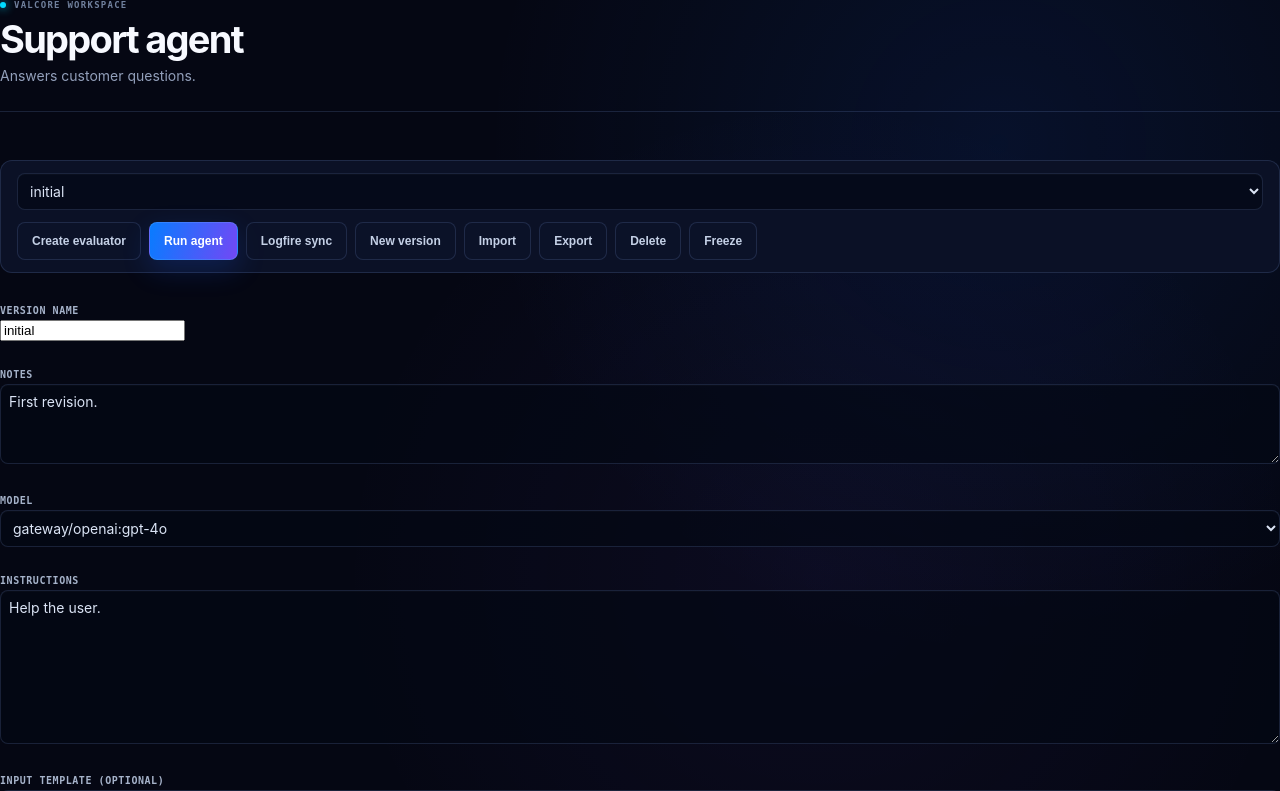
AgentDetail › shows a rejected derive run's API message instead of navigating
Expected: the heading "Support agent" is shown, [0, 20, 243, 60]
Click the button "Run agent". click: (193, 241)
box: [149, 222, 238, 260]
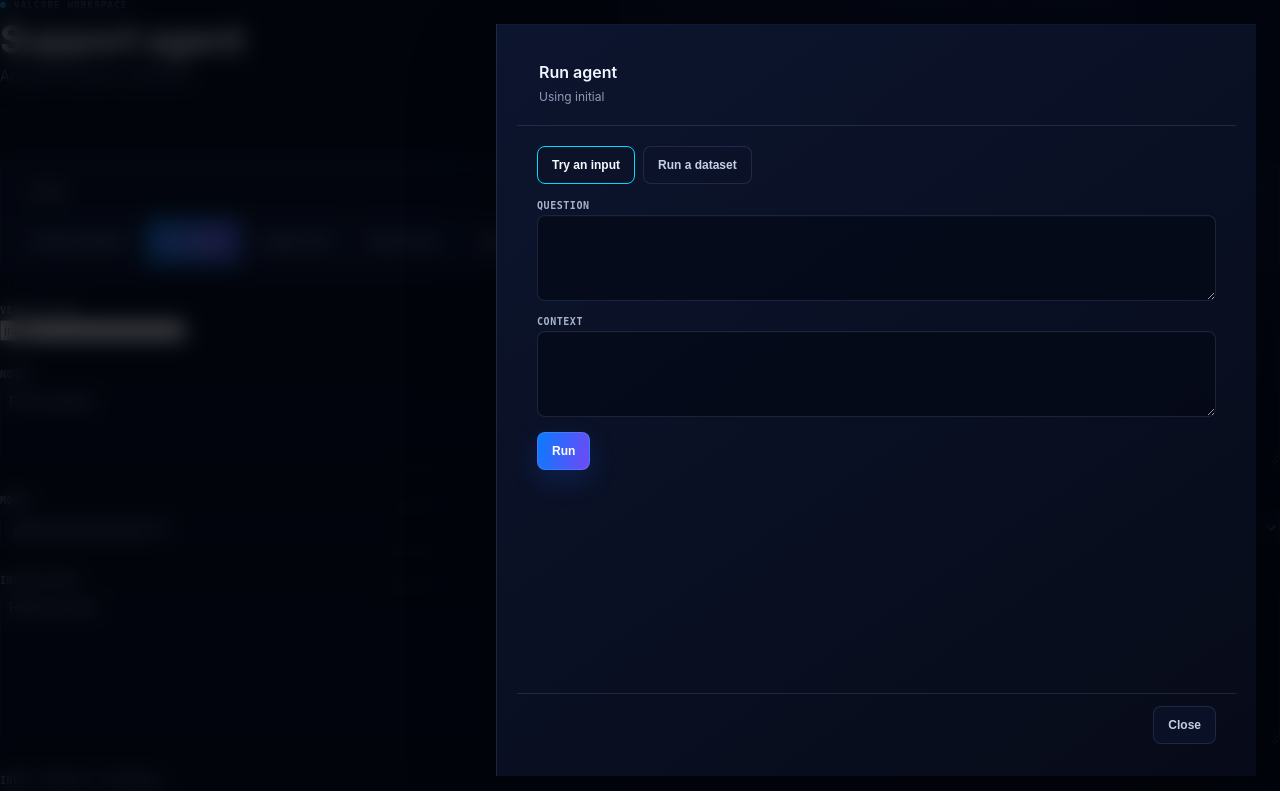
Click the tab "Run a dataset". click: (697, 165)
box: [643, 146, 752, 184]
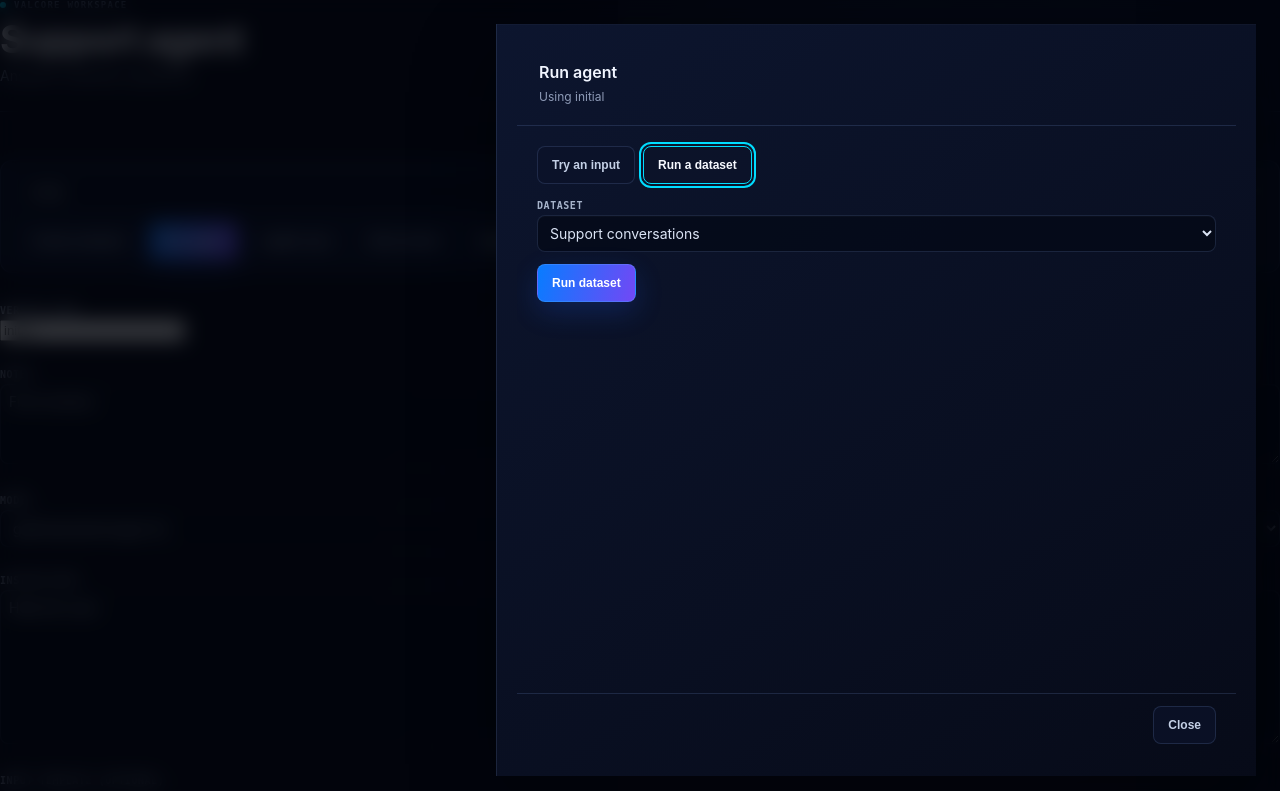
Select "Support conversations" in the dropdown labelled "Dataset". click: (876, 233)
box: [537, 215, 1216, 252]
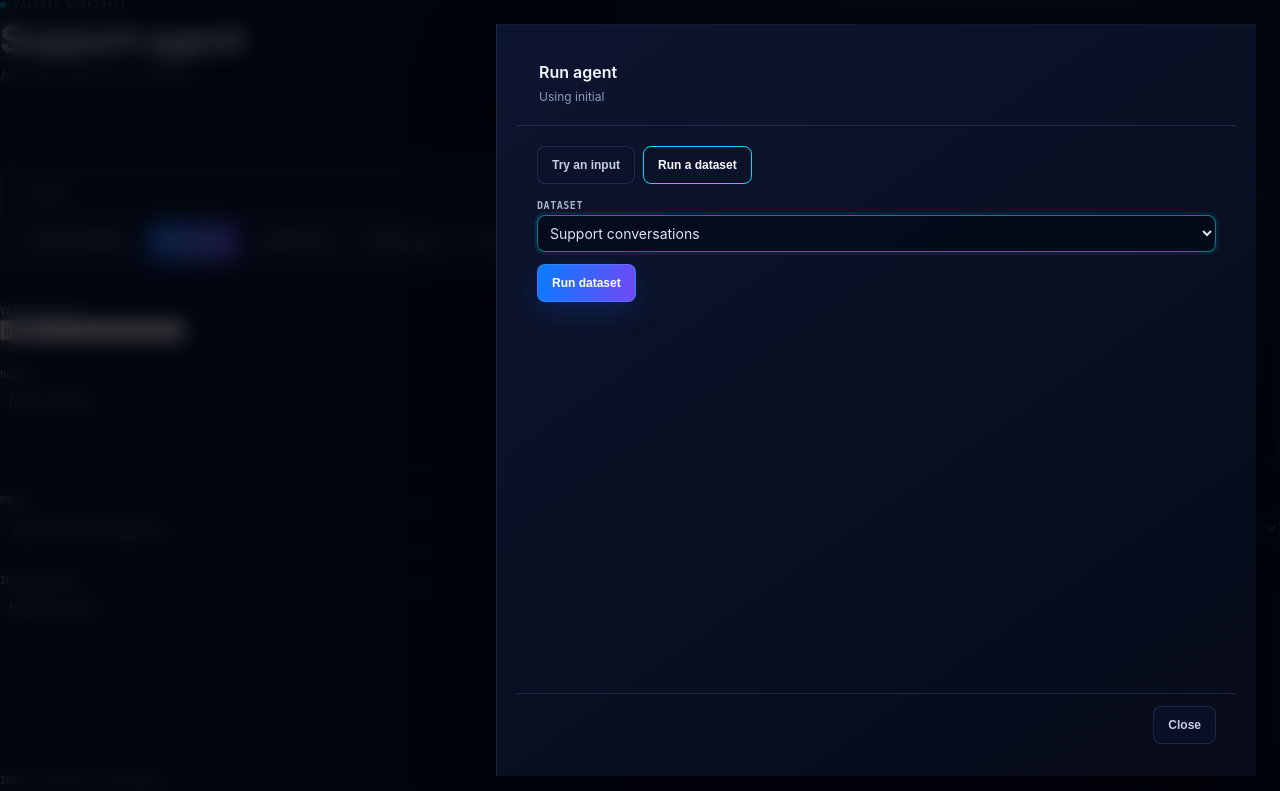
Click the button "Run dataset". click: (586, 283)
box: [537, 264, 636, 302]
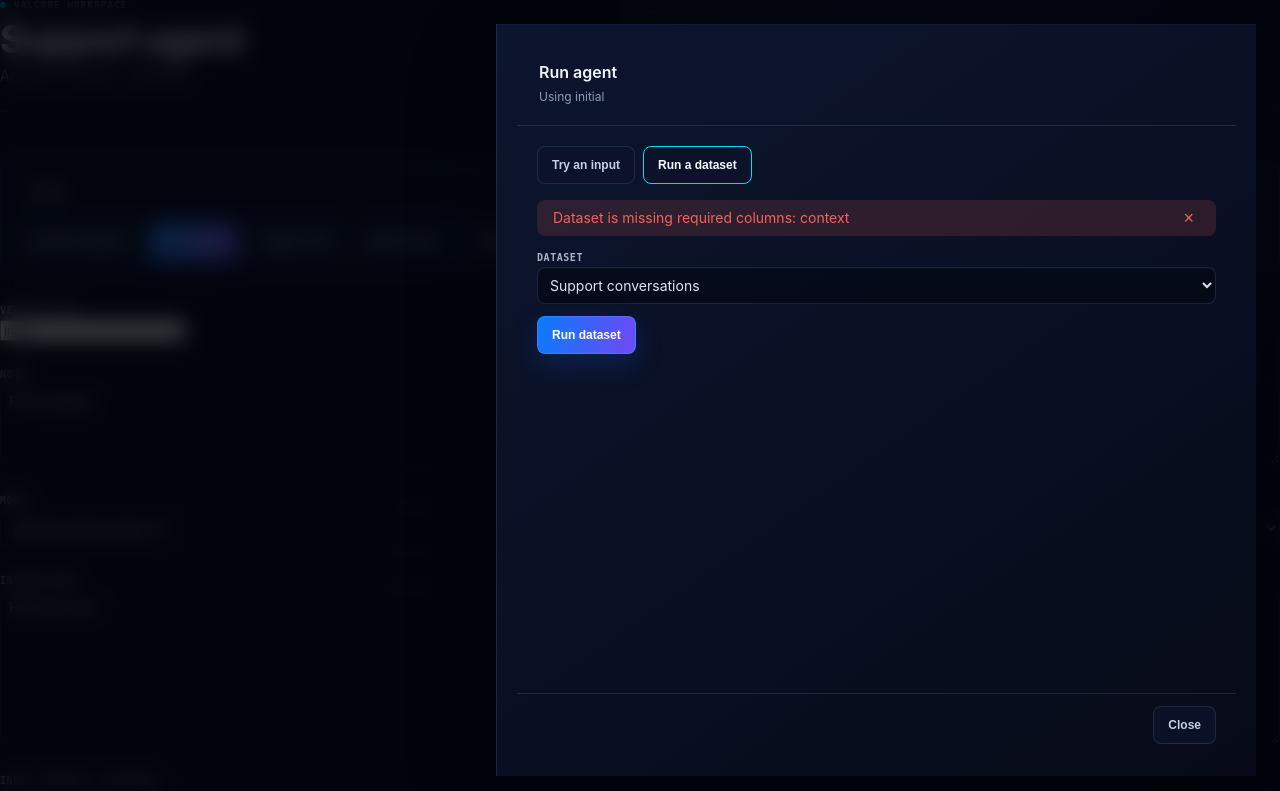
Now the button "Run dataset" is enabled, box [537, 316, 636, 354]
Now the button "Close" is enabled, box [1153, 706, 1216, 744]
Now the message shows "Dataset is missing required columns: context", box [553, 209, 850, 226]
